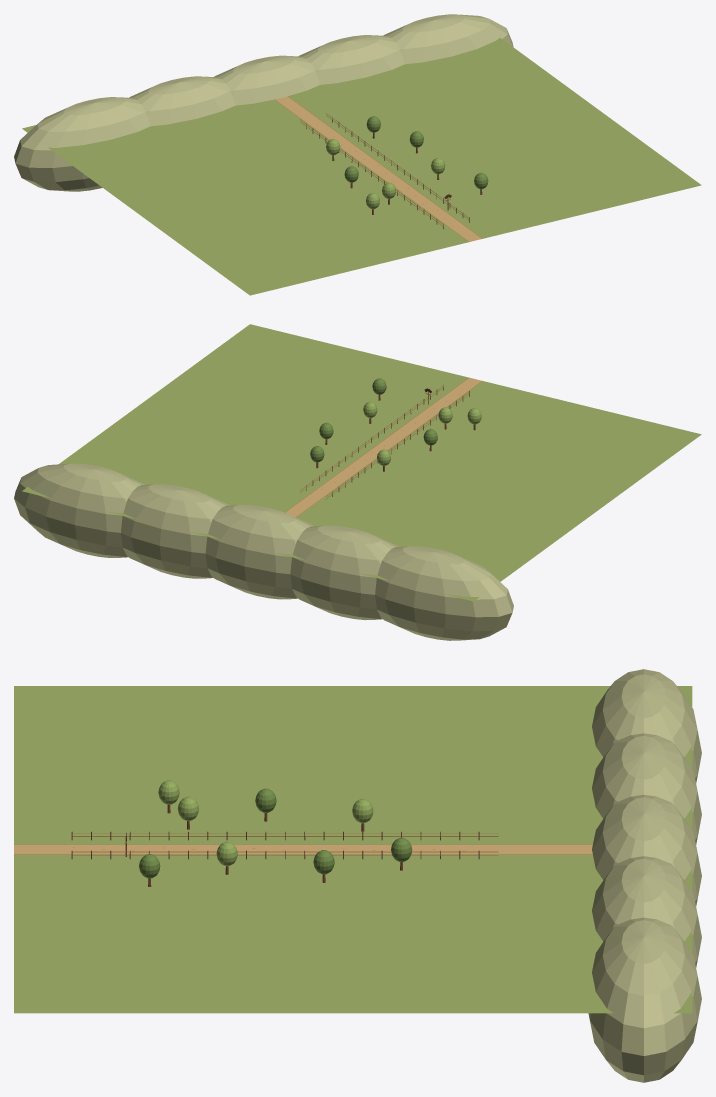
File: drum-volum.glb
The picture shows the model from 3 angles, top to bottom: view 1: azimuth 30°, elevation 25°; view 2: azimuth 150°, elevation 25°; view 3: azimuth 270°, elevation 25°; orthographic projection. The views are drawn at different scales.
Visible parts, largest first — view 1: Drumul satului, Copaci și dealuri, Gardul de nuiele; view 2: Drumul satului, Copaci și dealuri, Gardul de nuiele; view 3: Drumul satului, Copaci și dealuri, Gardul de nuiele.
Boxes of the visible parts, box(x1,y1,x2,y2) form: Drumul satului: box(22, 38, 701, 295); Copaci și dealuri: box(14, 14, 513, 214); Gardul de nuiele: box(300, 113, 469, 229); Drumul satului: box(22, 324, 701, 601); Copaci și dealuri: box(14, 378, 513, 640); Gardul de nuiele: box(300, 385, 469, 498); Drumul satului: box(14, 686, 692, 1013); Copaci și dealuri: box(139, 669, 701, 1082); Gardul de nuiele: box(71, 831, 498, 859).
Bounding box in the file's own units: 88 × 14 × 71.
